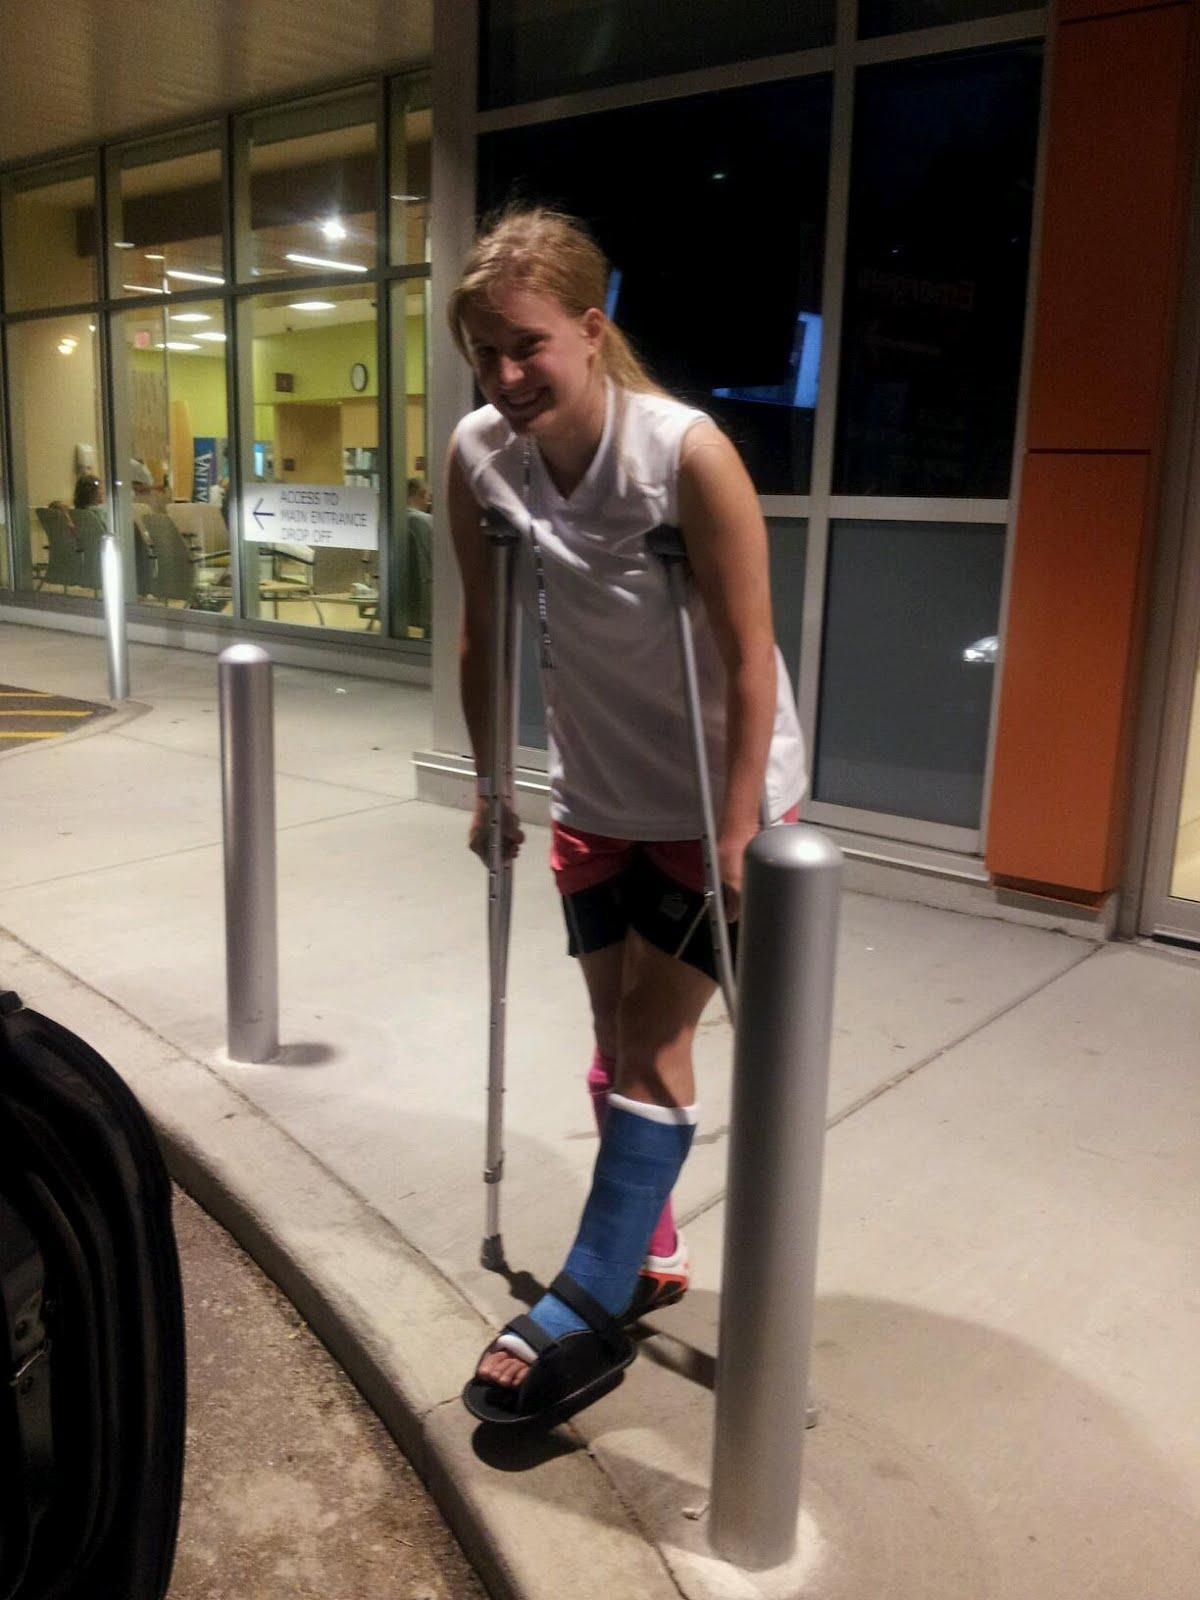crutches: (412, 208, 850, 1503)
